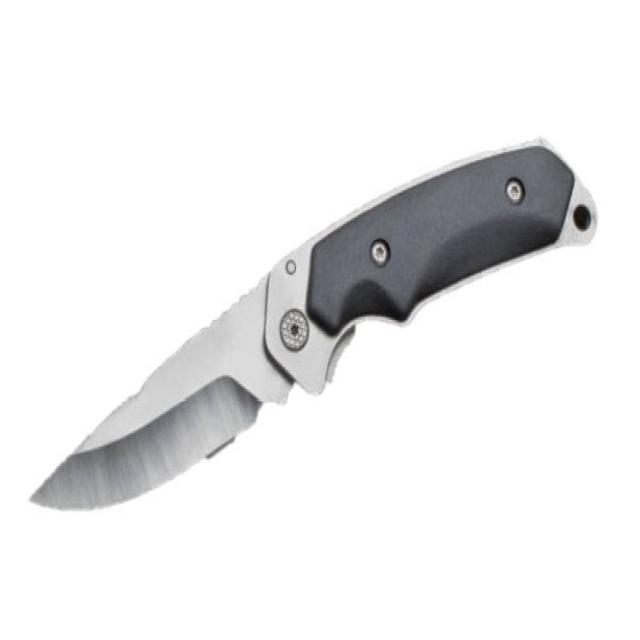knife: (21, 134, 605, 536)
